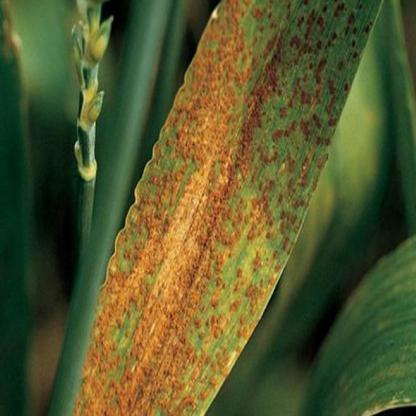Corn rust leaf: (50, 1, 390, 415)
